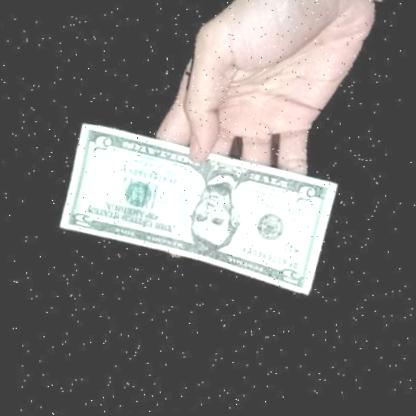five-front: (38, 85, 357, 336)
